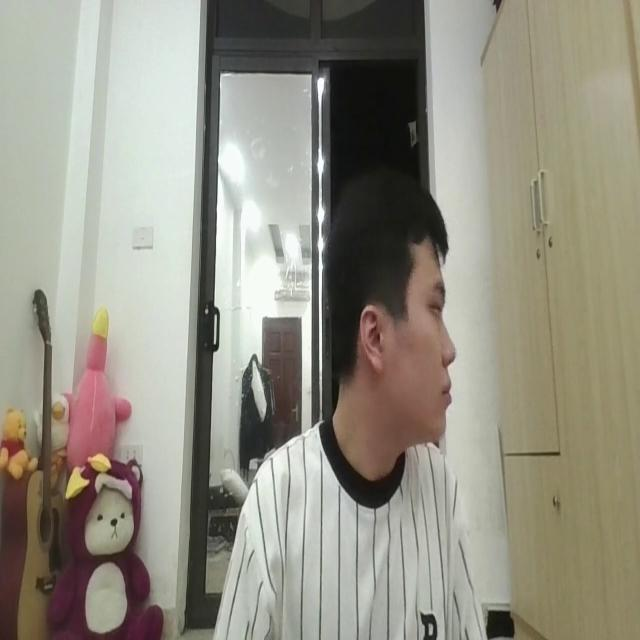student: (208, 160, 488, 640)
